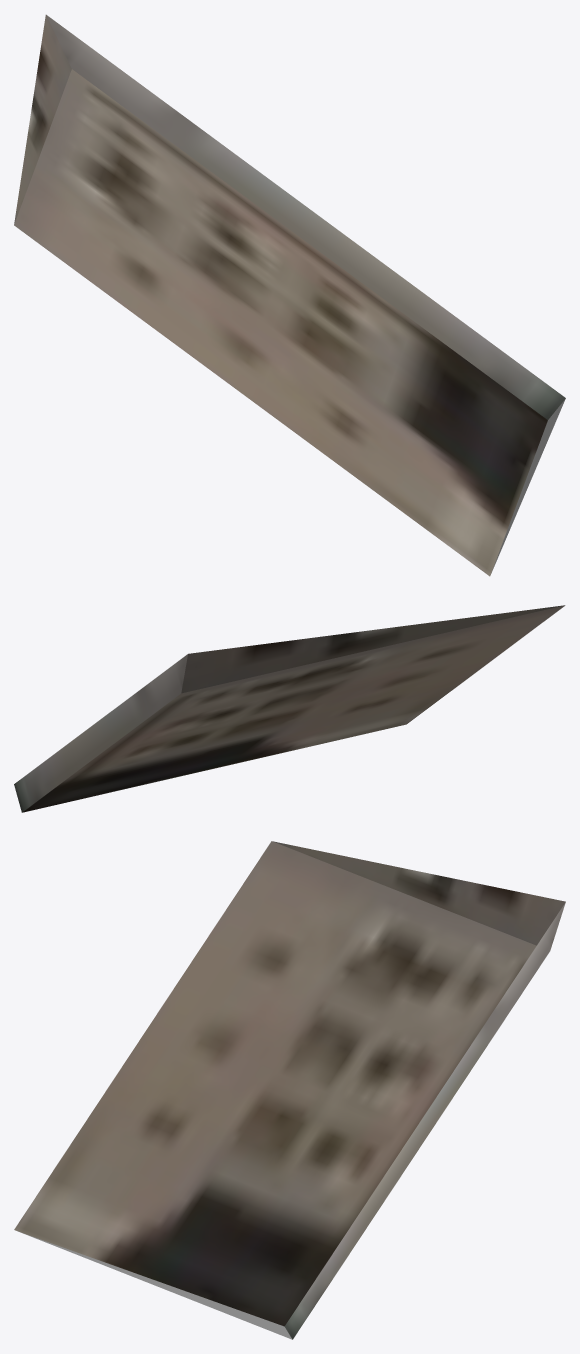
Rendered from 39534_bldg_Building.glb.
3 renders of one model, top to bottom at view 1: azimuth 30°, elevation 25°; view 2: azimuth 150°, elevation 25°; view 3: azimuth 270°, elevation 25°, orthographic. The views are drawn at different scales.
Bounding box in the file's own units: 14.63 × 9.16 × 15.14.
2 materials, 1 textured.
